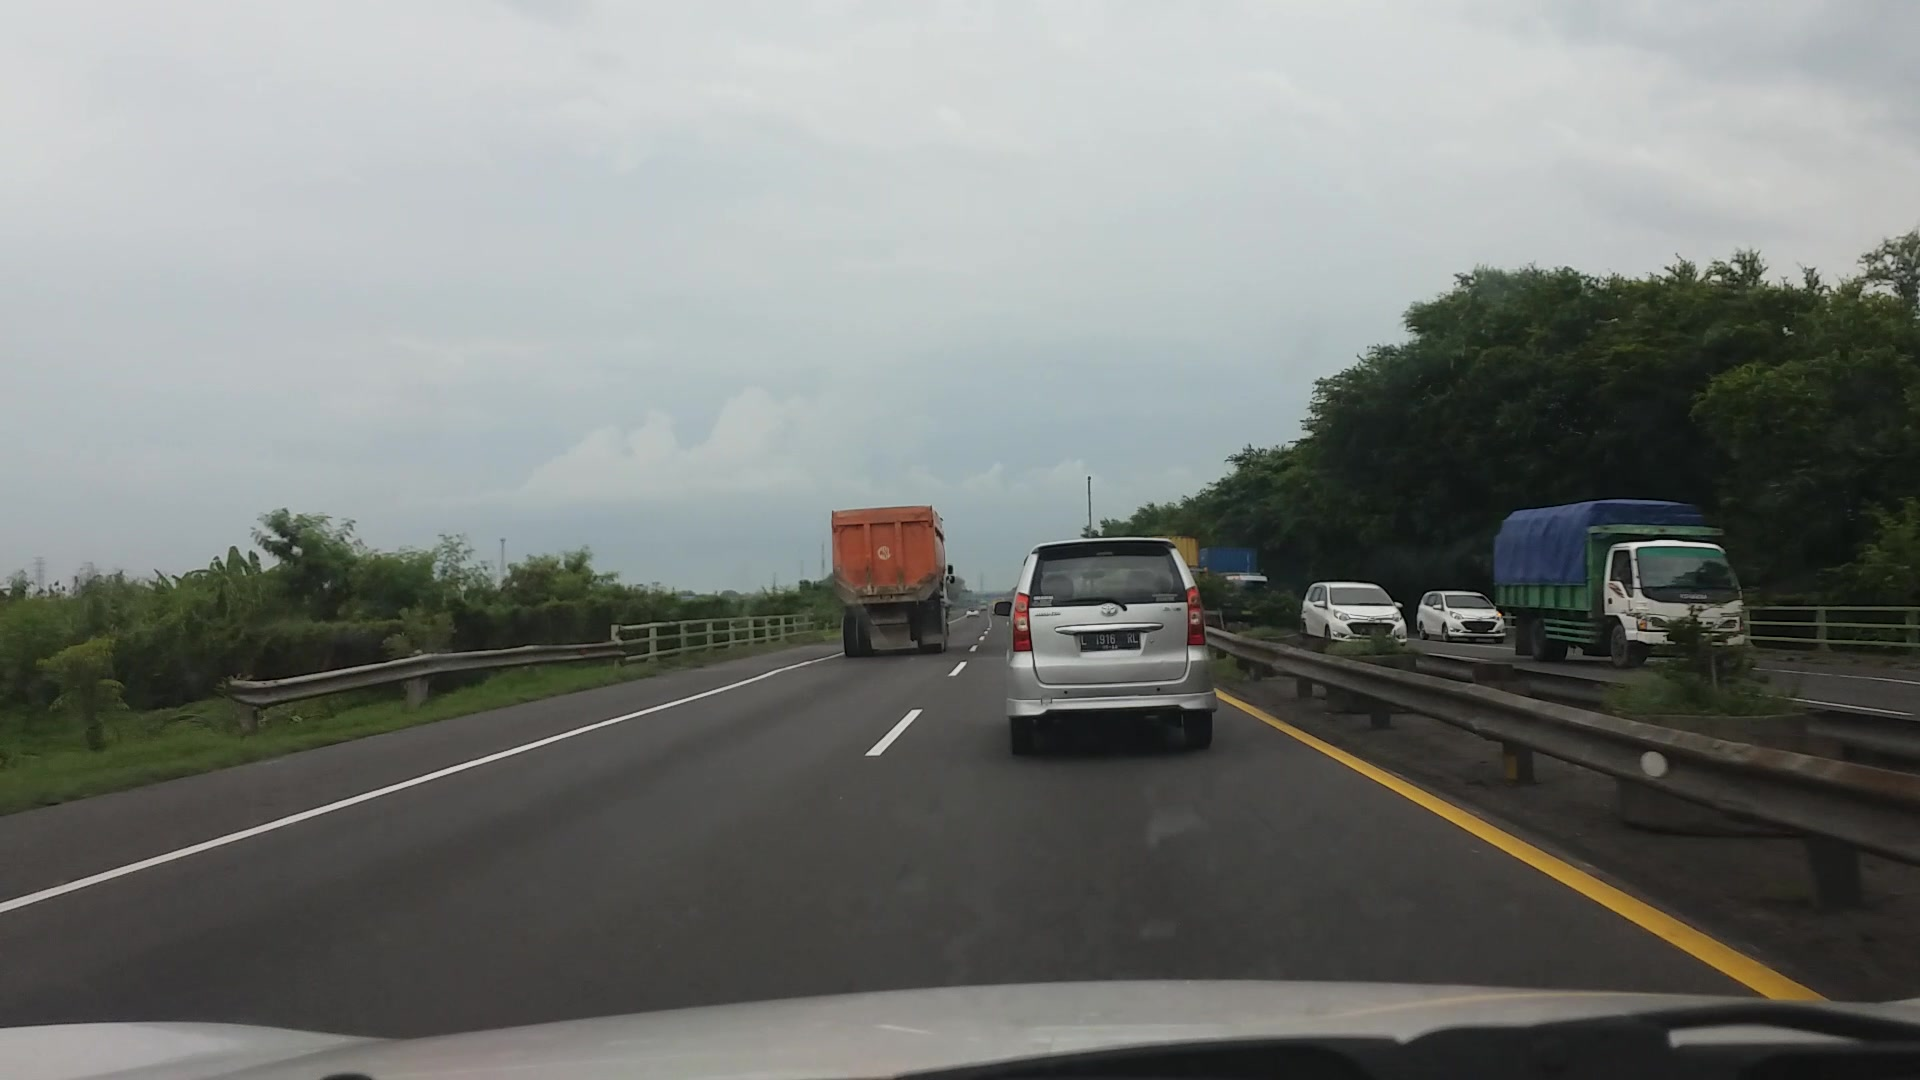plate_positive: (1079, 632, 1139, 651)
